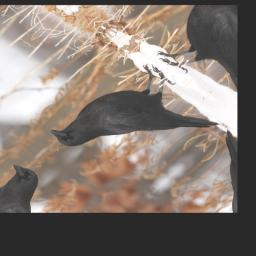Crow: (43, 50, 231, 198)
